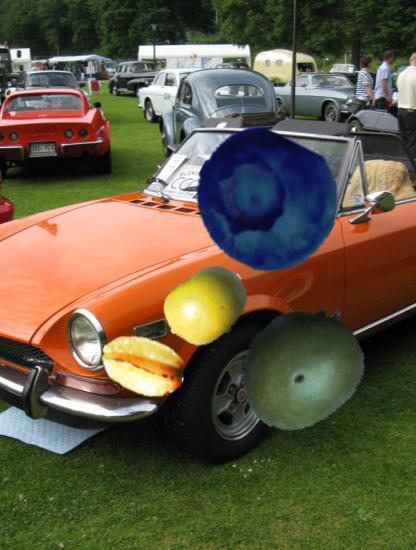Carambula: (100, 322, 187, 409)
Huckleberry: (193, 129, 338, 274)
Mango: (236, 301, 370, 435)
Pomelo: (163, 262, 251, 350)
